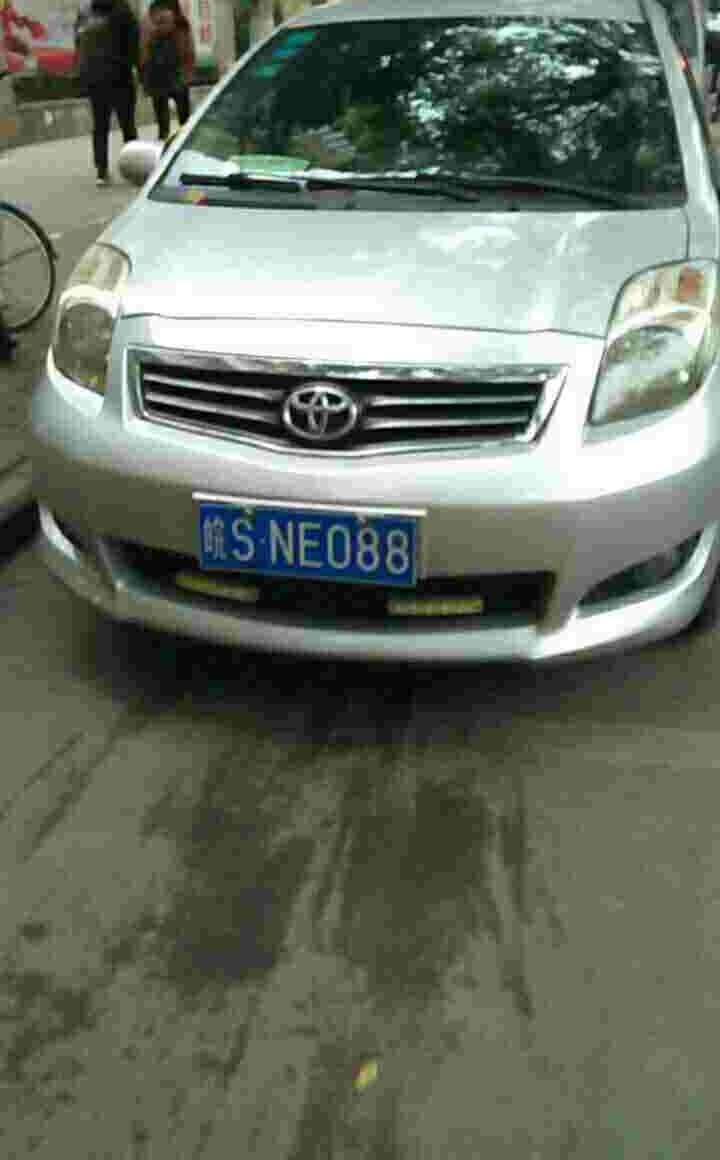license_plate: (200, 507, 418, 591)
